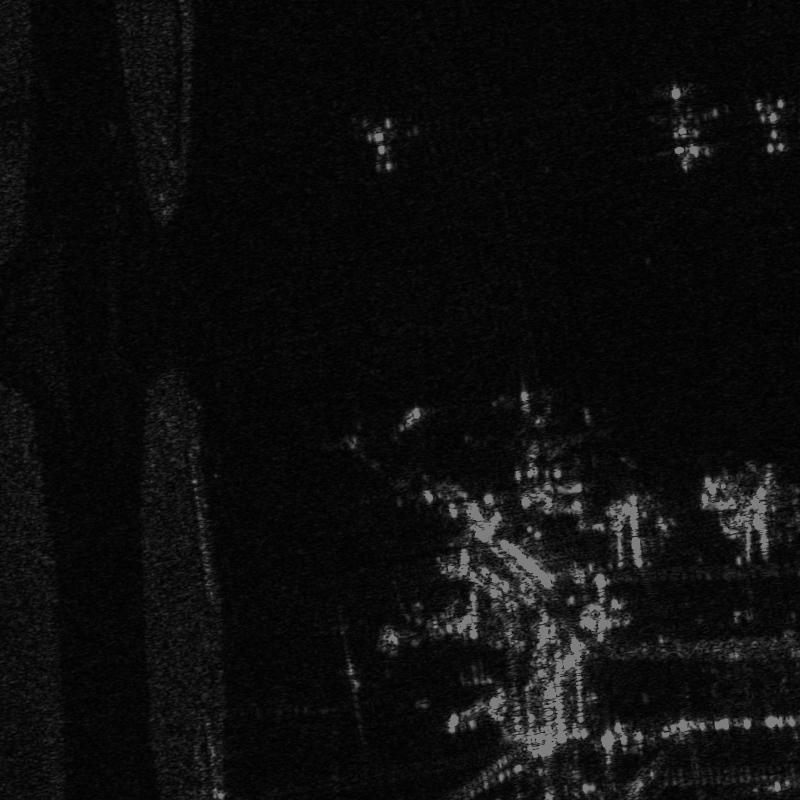ARJ21: (347, 109, 425, 180)
other: (460, 386, 614, 479), (636, 82, 734, 176)
